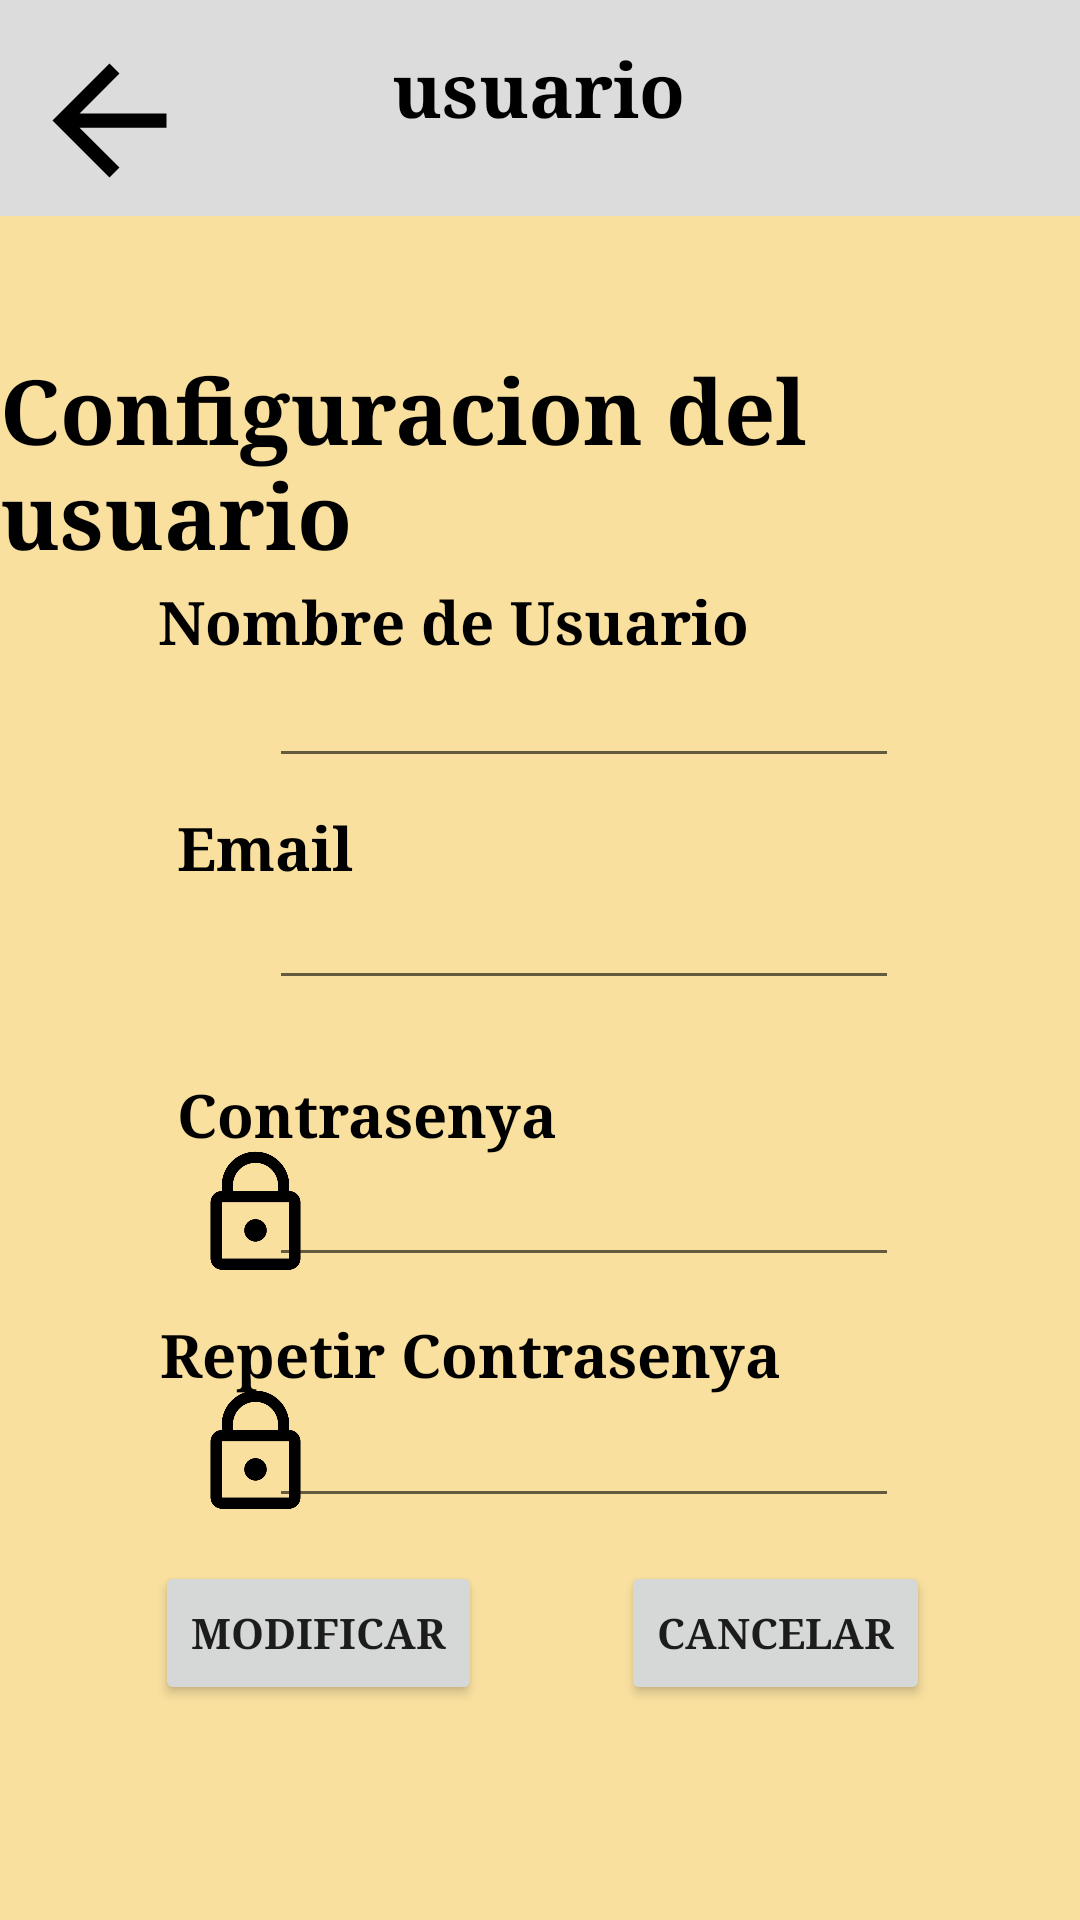

Icons on this 1080*1920 Android screen, each with its box as (x1, y1, x2, y2):
candado: (210, 1151, 329, 1270), (210, 1385, 329, 1509)
